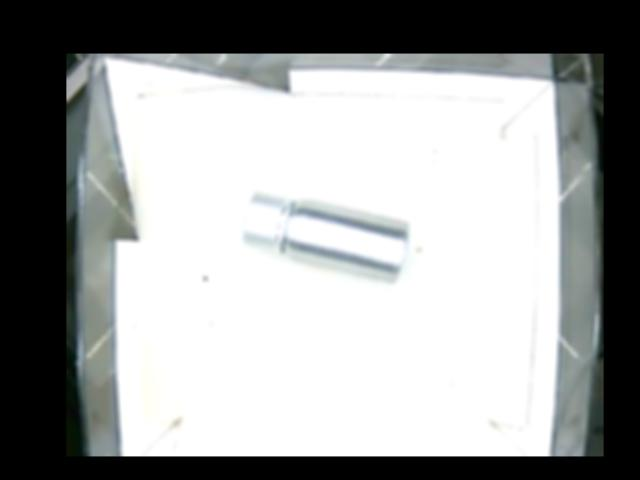Bottle: (242, 190, 408, 283)
